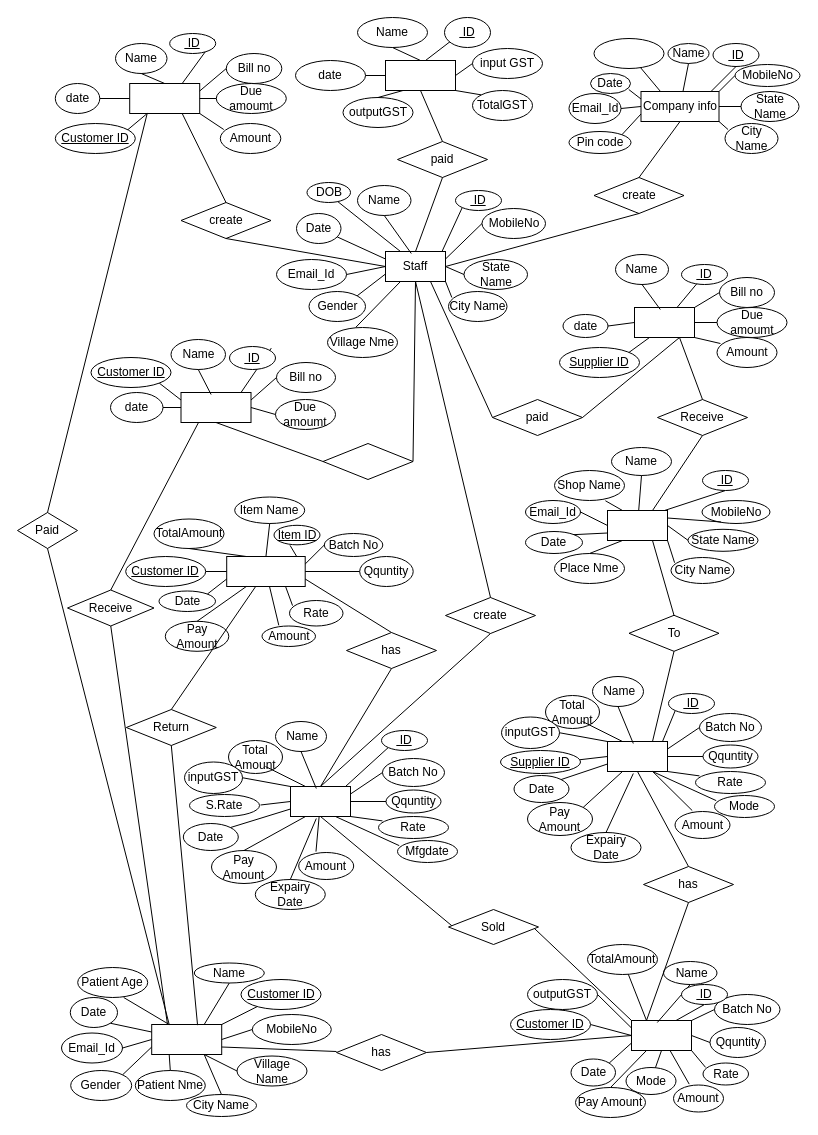
The diagram is 818 pixels wide and 1135 high, and some of its shapes have lost their labels. The box of each missing label's shape, as (x1, y1, x2, y2) in pixels:
Customer: (151, 1024, 222, 1054)
Payment: (634, 306, 694, 338)
PlaceName: (593, 38, 664, 68)
Purchase: (606, 740, 668, 772)
Receive Payment: (129, 82, 200, 114)
reminder: (180, 392, 251, 422)
Return GST: (384, 60, 456, 90)
Return Item: (226, 556, 305, 586)
Sales: (630, 1020, 692, 1050)
Send: (322, 442, 413, 480)
Stock: (290, 786, 350, 816)
Supplier: (606, 510, 668, 540)
